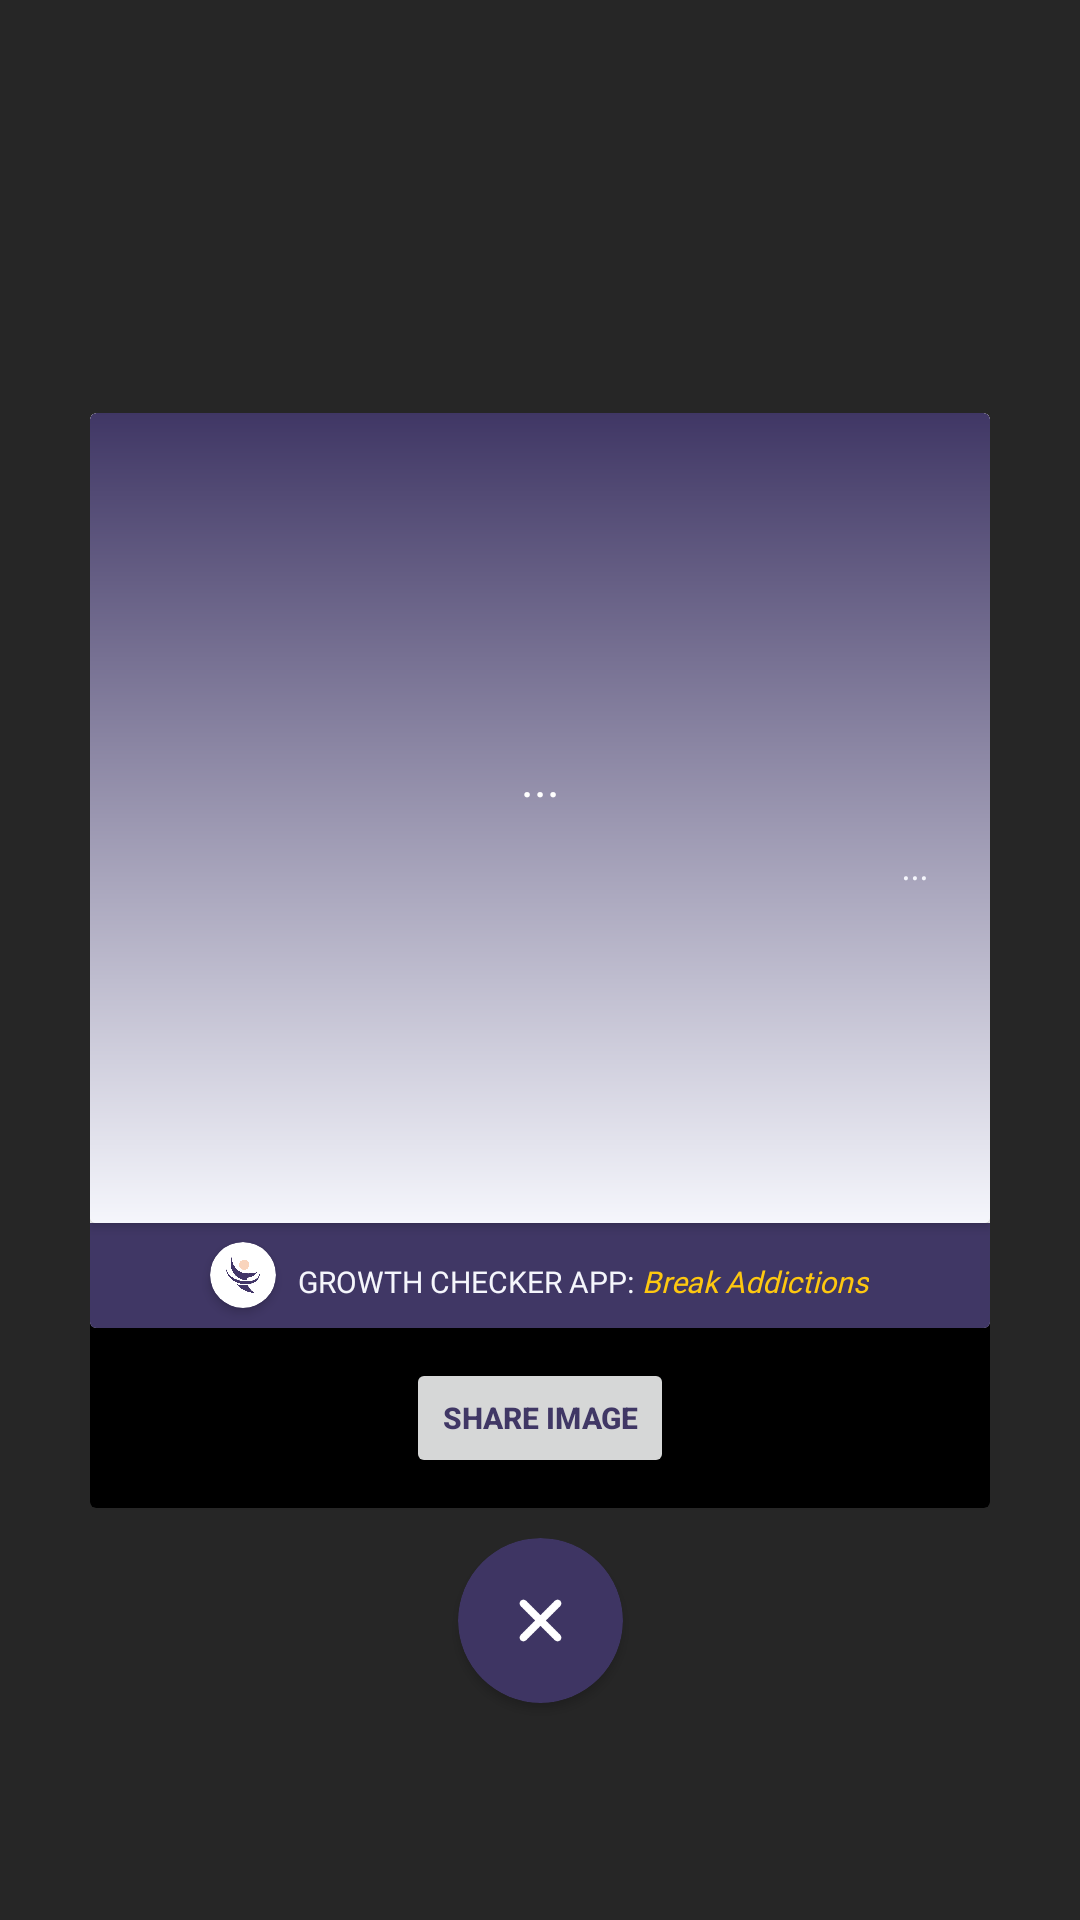

Icon click points for this 1080*1920 phone screenshot, format (x=x, y=y):
cancel: (x=540, y=1620)
